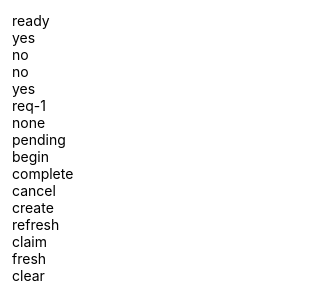
Scenario: ParentalConsentProvider claim intent › AUTH HYDRATION RACE: unauthenticated Auth resolve keeps awaitingClaim and blocks CreateAccount
Expected: the text with test id "hydrate" reads "ready", left=12, top=12, right=50, bottom=29
Expected: the text with test id "awaiting" reads "yes", left=12, top=80, right=35, bottom=97
Step 1. Click the text with test id "refresh" → (36, 224), box left=12, top=216, right=59, bottom=233
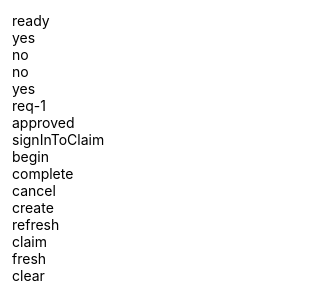
Now the text with test id "status" reads "approved", box left=12, top=114, right=74, bottom=131
Now the text with test id "destination" reads "signInToClaim", box left=12, top=131, right=104, bottom=148
